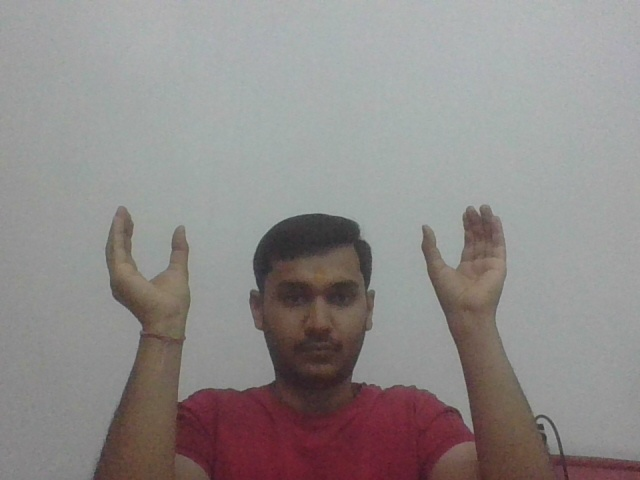U: (414, 200, 516, 323), (102, 202, 193, 327)
